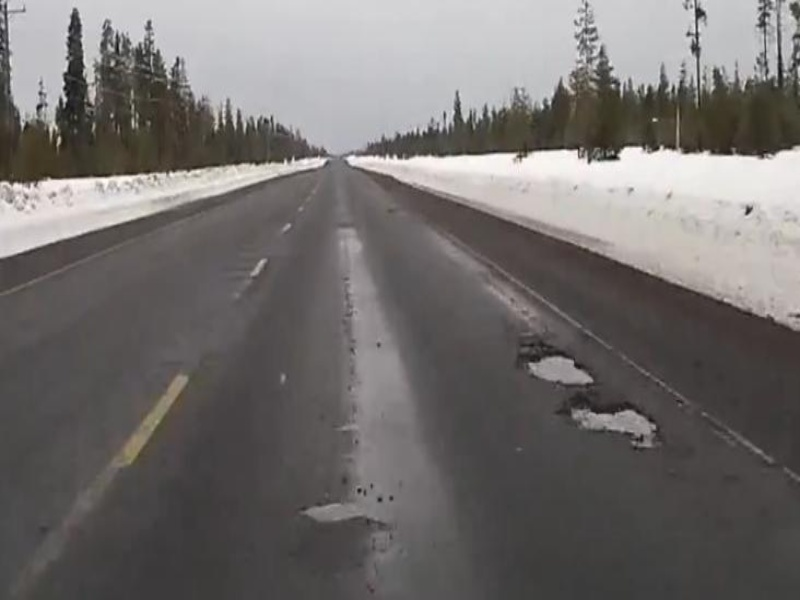pothole: (561, 393, 669, 455), (515, 348, 599, 391)
